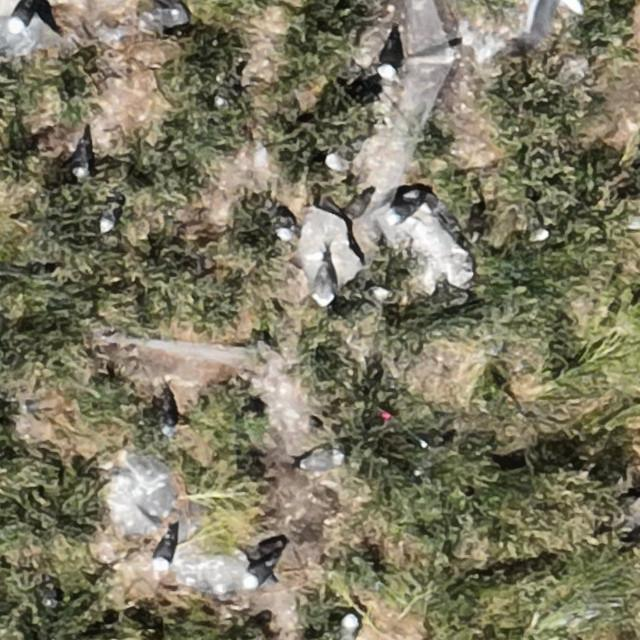F: (522, 0, 582, 40)
umineko: (387, 193, 426, 225), (312, 255, 335, 307), (5, 2, 39, 34), (298, 448, 340, 468), (527, 222, 564, 244), (247, 562, 276, 588), (72, 144, 92, 178), (379, 41, 398, 76), (154, 537, 173, 568), (161, 402, 176, 434), (340, 613, 358, 639), (100, 205, 116, 234)
